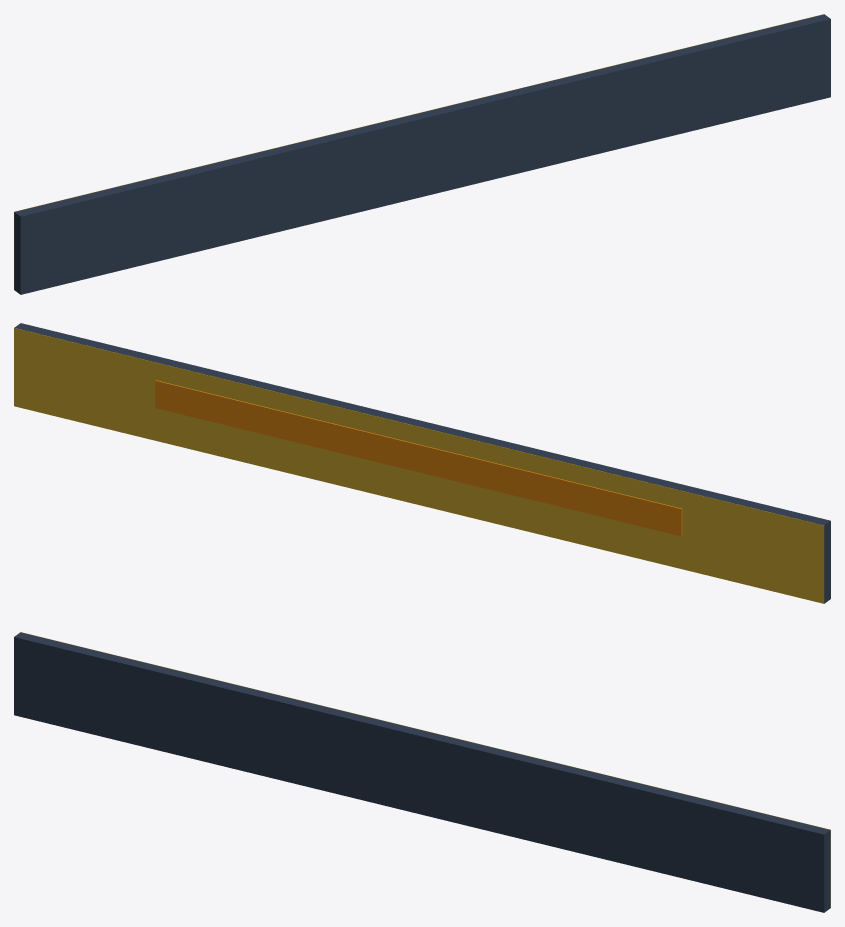
File: bảng hiệu bạt lot tôn 1300 x 120.obj
3 renders of one model, top to bottom at view 1: azimuth 30°, elevation 25°; view 2: azimuth 150°, elevation 25°; view 3: azimuth 330°, elevation 25°, orthographic.
Parts seen in each view (by area): view 1: Khung_Ket_Cau, Vien_Kim_Loai_Nẹp; view 2: Vien_Kim_Loai_Nẹp, Chu_Noi_3D_Logo, Khung_Ket_Cau; view 3: Khung_Ket_Cau, Vien_Kim_Loai_Nẹp.
Boxes of the visible parts, box(x1,y1,x2,y2) form: Khung_Ket_Cau: box(14, 14, 830, 294); Vien_Kim_Loai_Nẹp: box(14, 14, 823, 289); Vien_Kim_Loai_Nẹp: box(14, 328, 824, 603); Chu_Noi_3D_Logo: box(155, 380, 682, 536); Khung_Ket_Cau: box(14, 323, 830, 603); Khung_Ket_Cau: box(14, 632, 830, 912); Vien_Kim_Loai_Nẹp: box(21, 632, 830, 907).
Size of the model in its own units: 13 by 1.2 by 0.206.
